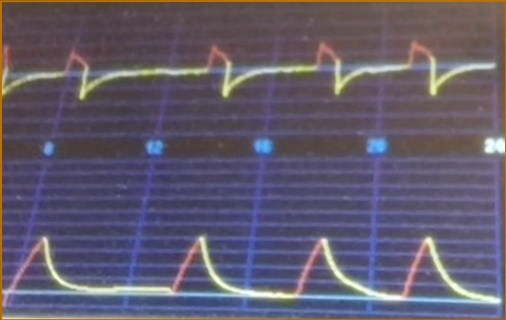Normal Flow: (4, 24, 493, 115)
Normal Volume: (4, 215, 498, 310)
